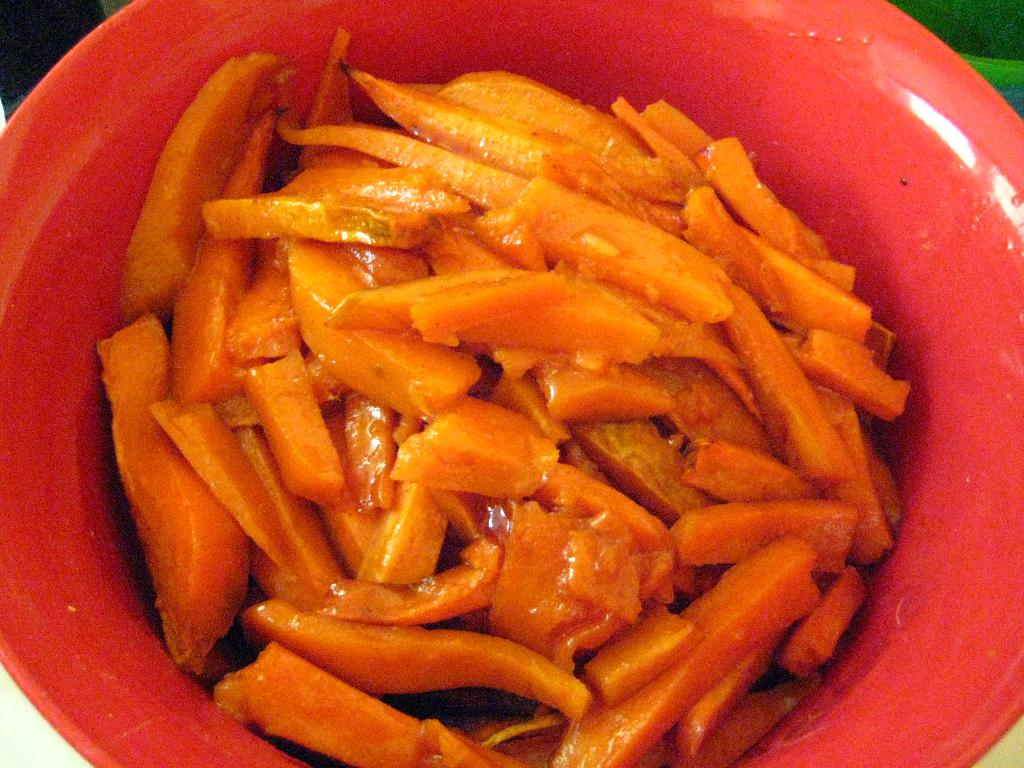Carrot: (96, 28, 912, 768)
